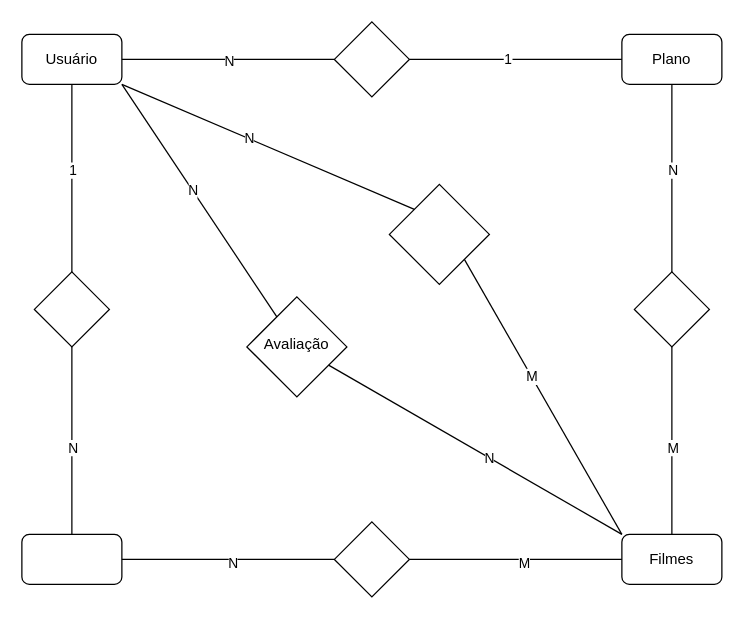
The diagram is 744 pixels wide and 619 high, and some of its shapes have lost their labels. The shapes that lost their labels are listed below. From the top down, each one's centre as x and y in pixels, then its label:
pixel 438 233: Visualização
pixel 71 558: Gêneros
